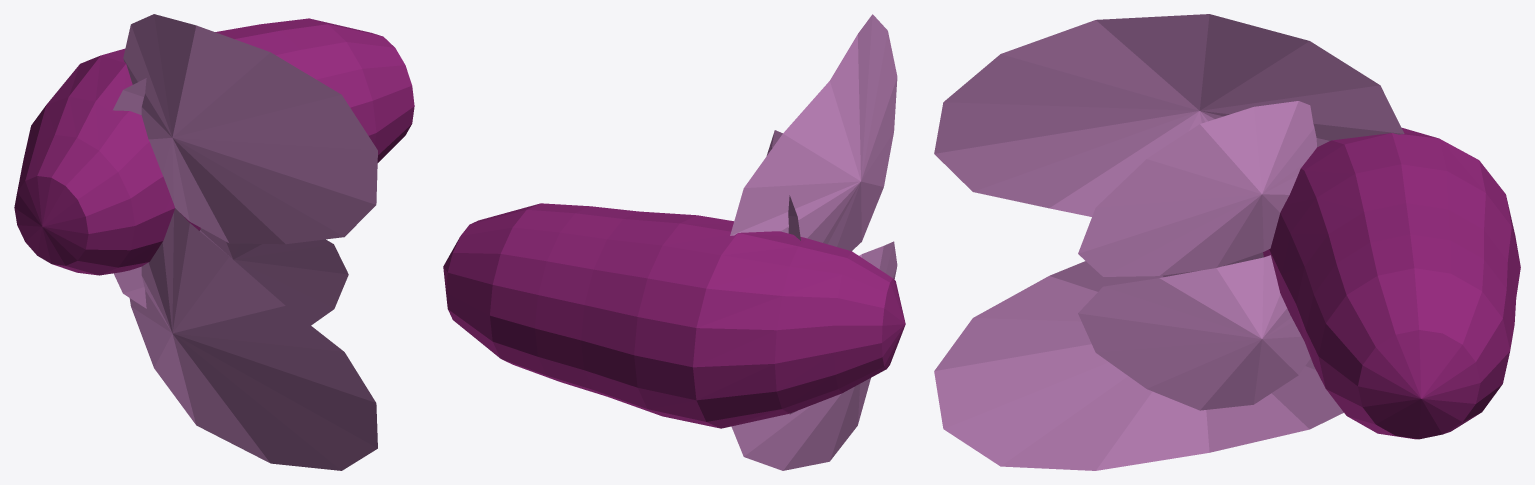
The model's file is RedbudFlower.obj.
3 renders of one model, left to right at view 1: azimuth 30°, elevation 25°; view 2: azimuth 150°, elevation 25°; view 3: azimuth 270°, elevation 25°, orthographic. The views are drawn at different scales.
Parts seen in each view (by area): view 1: petals; view 2: petals; view 3: petals.
Boxes of the visible parts, x1,y1,x2,y2 form: petals: (14,14,414,470); petals: (443,14,905,470); petals: (934,14,1520,470).
Size of the model in its own units: 0.743 by 0.6829 by 0.805.
